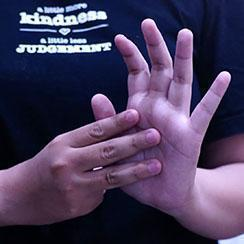M: (48, 1, 236, 240)
